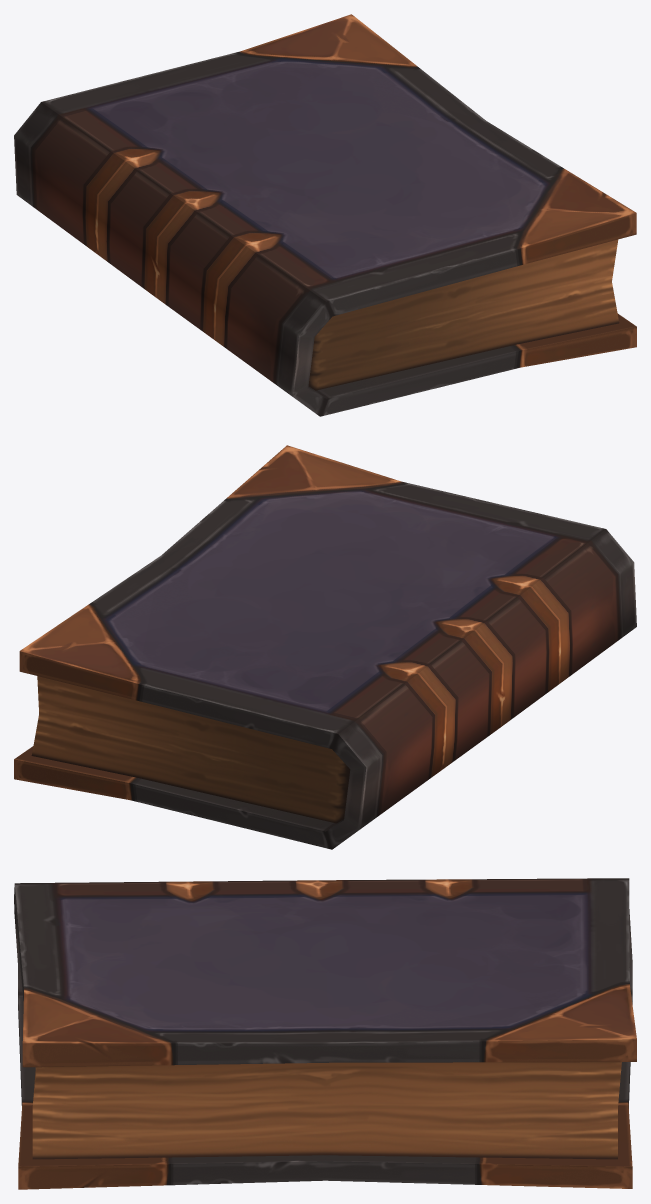
The model's file is Book_6.FBX.
3 renders of one model, top to bottom at view 1: azimuth 30°, elevation 25°; view 2: azimuth 150°, elevation 25°; view 3: azimuth 270°, elevation 25°, orthographic. The views are drawn at different scales.
Visible parts, largest first — view 1: Book_6; view 2: Book_6; view 3: Book_6.
Boxes of the visible parts, x1,y1,x2,y2 form: Book_6: (14, 14, 636, 416); Book_6: (14, 445, 636, 849); Book_6: (14, 878, 636, 1189).
Size of the model in its own units: 285 by 103 by 393.
